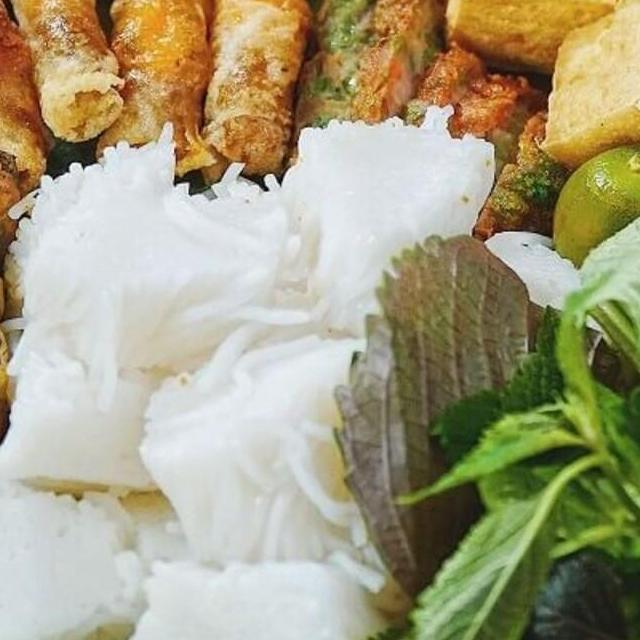bun: (0, 92, 599, 640), (0, 448, 170, 640)
bun dau: (0, 0, 640, 640)
cha com: (407, 44, 581, 245), (283, 0, 449, 146)
cha gio: (0, 0, 318, 201)
dau hu: (515, 0, 640, 176)
